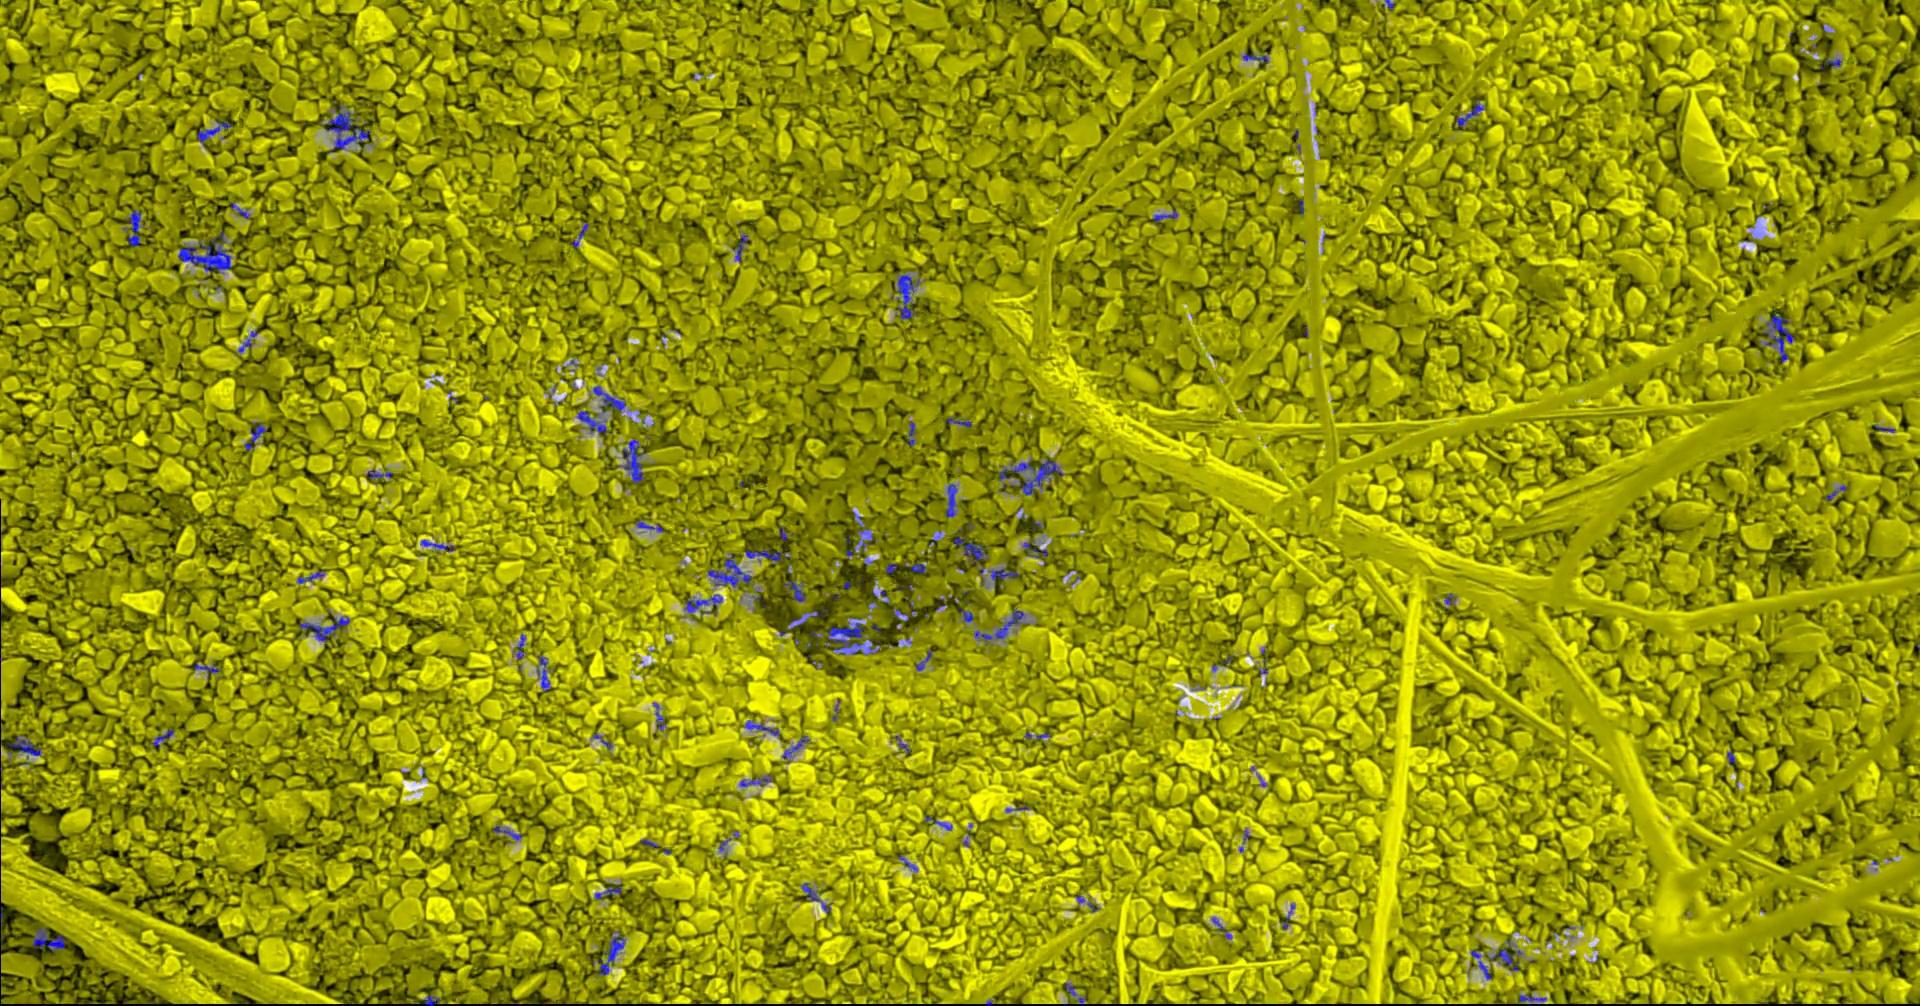ant: (320, 102, 370, 152), (997, 459, 1062, 495), (177, 231, 232, 273), (974, 608, 1023, 641), (1763, 314, 1793, 362), (707, 553, 750, 586), (825, 617, 863, 654), (890, 274, 919, 319), (298, 616, 349, 641), (597, 931, 623, 976), (618, 439, 644, 481), (801, 882, 830, 913), (8, 735, 41, 763), (196, 119, 232, 144), (592, 385, 625, 412), (952, 536, 987, 561), (30, 927, 65, 951), (1455, 98, 1484, 126), (122, 210, 143, 246), (577, 410, 607, 434), (684, 594, 723, 614), (1490, 948, 1521, 970), (244, 422, 267, 450), (1470, 949, 1491, 979), (782, 735, 809, 758), (744, 720, 778, 735), (989, 568, 1018, 586), (536, 655, 550, 691), (891, 602, 916, 622), (745, 549, 783, 561), (783, 579, 805, 601), (1064, 982, 1084, 1005), (731, 234, 748, 262), (594, 883, 621, 899), (943, 483, 956, 517), (420, 539, 455, 551), (1023, 540, 1048, 558), (491, 826, 522, 840), (151, 728, 173, 747), (571, 224, 588, 248), (237, 330, 257, 351), (739, 775, 771, 786), (916, 649, 933, 669), (297, 570, 325, 583), (653, 702, 665, 729), (634, 520, 663, 531), (230, 202, 249, 218), (1517, 995, 1545, 1005), (1152, 210, 1176, 221), (1242, 52, 1269, 62), (194, 662, 220, 672), (364, 470, 392, 479), (947, 417, 971, 427), (787, 616, 806, 629), (516, 633, 524, 659), (907, 422, 916, 446), (957, 608, 973, 622), (905, 563, 926, 573), (423, 995, 439, 1005), (869, 639, 880, 653)
